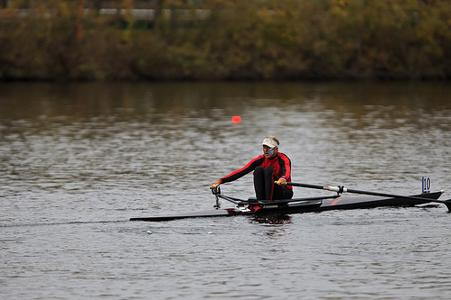person: (211, 137, 294, 202)
